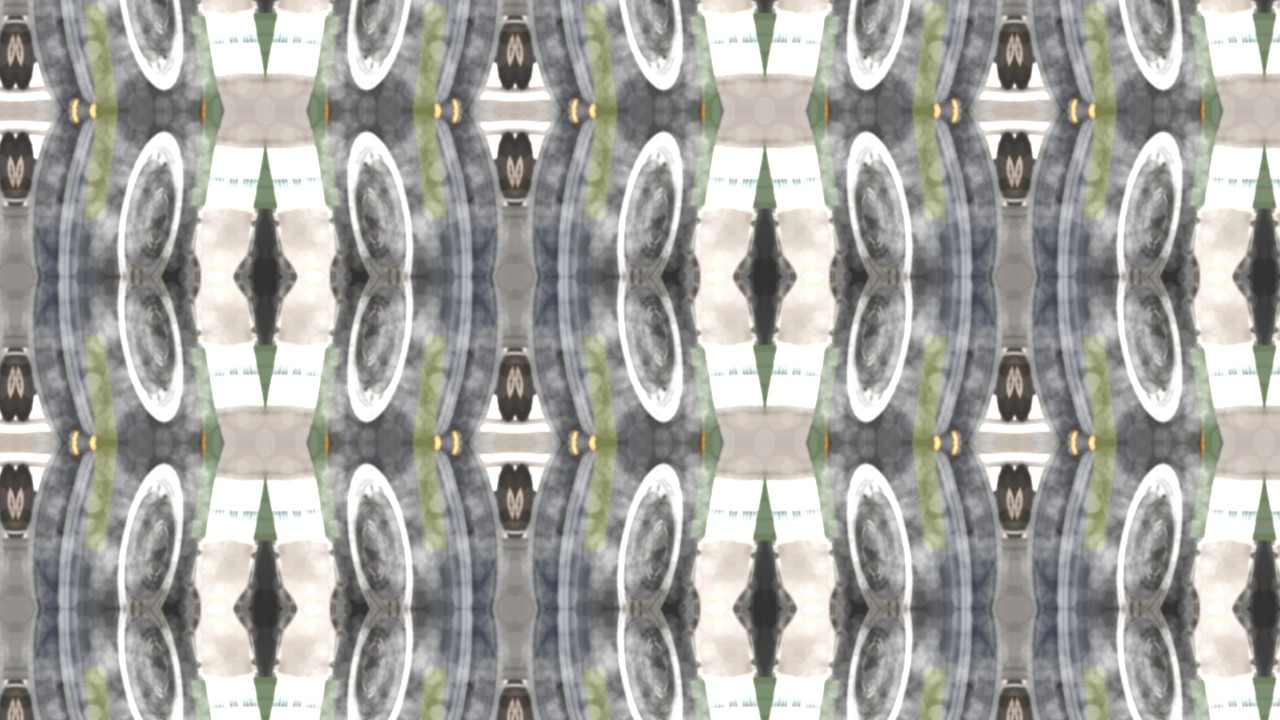chock: (195, 110, 232, 148), (298, 110, 335, 148), (695, 110, 732, 148), (798, 110, 835, 148), (1195, 110, 1232, 148), (195, 73, 232, 110), (298, 73, 335, 110), (695, 73, 732, 110), (798, 73, 835, 110), (1195, 73, 1232, 110), (195, 406, 232, 443), (298, 406, 335, 443), (695, 406, 732, 443), (798, 406, 835, 443), (1195, 406, 1232, 443), (195, 443, 232, 480), (298, 443, 335, 480), (695, 443, 732, 480), (798, 443, 835, 480), (1195, 443, 1232, 480)
wheel: (47, 111, 228, 277), (302, 111, 483, 277), (547, 111, 728, 277), (802, 111, 983, 277), (1047, 111, 1228, 277), (47, 277, 228, 443), (302, 277, 483, 443), (547, 277, 728, 443), (802, 277, 983, 443), (1047, 277, 1228, 443), (47, 443, 228, 609), (302, 443, 483, 609), (547, 443, 728, 609), (802, 443, 983, 609), (1047, 443, 1228, 609), (47, 609, 228, 720), (302, 609, 483, 720), (547, 609, 728, 720), (802, 609, 983, 720), (1047, 609, 1228, 720), (47, 0, 228, 110), (302, 0, 483, 110), (547, 0, 728, 110), (802, 0, 983, 110), (1047, 0, 1228, 110), (20, 111, 90, 277), (440, 111, 510, 277), (520, 111, 590, 277), (940, 111, 1010, 277), (1020, 111, 1090, 277), (20, 277, 90, 443), (440, 277, 510, 443), (520, 277, 590, 443), (940, 277, 1010, 443), (1020, 277, 1090, 443), (20, 443, 90, 609), (440, 443, 510, 609), (520, 443, 590, 609), (940, 443, 1010, 609), (1020, 443, 1090, 609), (20, 609, 90, 720), (440, 609, 510, 720), (520, 609, 590, 720), (940, 609, 1010, 720), (1020, 609, 1090, 720), (20, 0, 90, 110), (440, 0, 510, 110), (520, 0, 590, 110), (940, 0, 1010, 110), (1020, 0, 1090, 110), (0, 111, 10, 277), (0, 277, 10, 443), (0, 443, 10, 609), (16, 20, 37, 90), (493, 20, 514, 90), (516, 20, 537, 90), (993, 20, 1014, 90), (1016, 20, 1037, 90), (16, 131, 37, 201), (493, 131, 514, 201), (516, 131, 537, 201), (993, 131, 1014, 201), (1016, 131, 1037, 201), (16, 353, 37, 422), (493, 353, 514, 422), (516, 353, 537, 422), (993, 353, 1014, 422), (1016, 353, 1037, 422), (16, 464, 37, 533), (493, 464, 514, 533), (516, 464, 537, 533), (993, 464, 1014, 533), (1016, 464, 1037, 533), (0, 609, 10, 720), (0, 0, 10, 110), (0, 20, 14, 90), (0, 131, 14, 201), (0, 353, 14, 422), (0, 464, 14, 533), (16, 685, 37, 720), (493, 685, 514, 720), (516, 685, 537, 720), (993, 685, 1014, 720), (1016, 685, 1037, 720), (7, 21, 15, 90), (15, 21, 23, 90), (507, 21, 515, 90), (515, 21, 523, 90), (1007, 21, 1015, 90), (1015, 21, 1023, 90), (7, 131, 15, 200), (15, 131, 23, 200), (507, 131, 515, 200), (515, 131, 523, 200), (1007, 131, 1015, 200), (1015, 131, 1023, 200), (7, 354, 15, 423), (15, 354, 23, 423), (507, 354, 515, 423), (515, 354, 523, 423), (1007, 354, 1015, 423), (1015, 354, 1023, 423), (7, 463, 15, 532), (15, 463, 23, 532), (507, 463, 515, 532), (515, 463, 523, 532), (1007, 463, 1015, 532), (1015, 463, 1023, 532), (0, 685, 14, 720), (7, 686, 15, 720), (15, 686, 23, 720), (507, 686, 515, 720), (515, 686, 523, 720), (1007, 686, 1015, 720), (1015, 686, 1023, 720)
